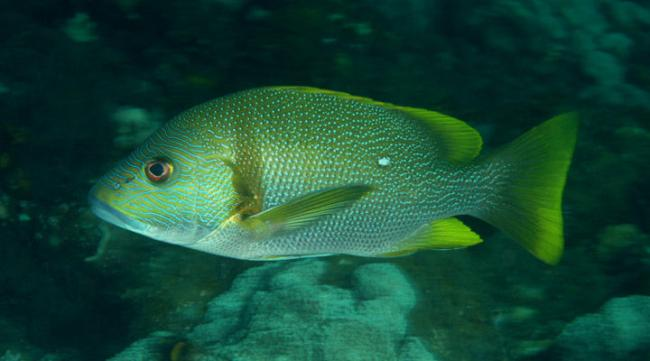fish: (89, 84, 582, 268)
